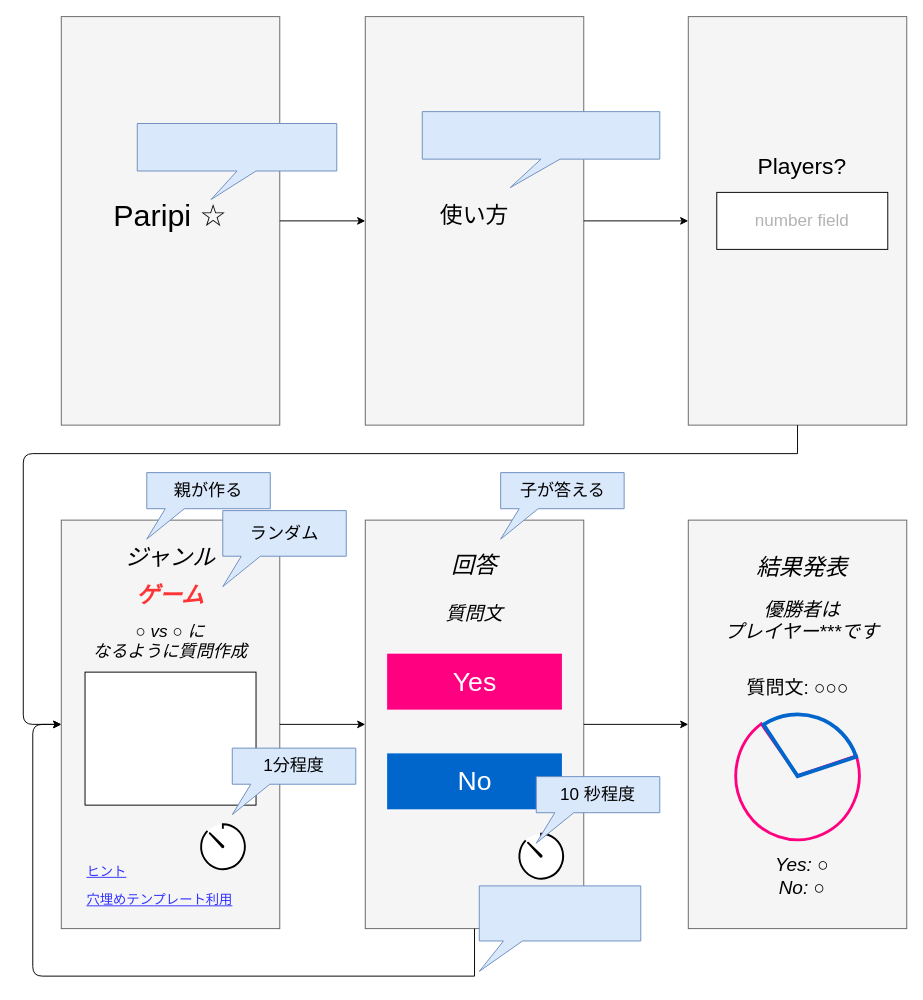
Image size: 923x1000. Some labels were removed from this diagram. The centre of each missing label's shape, as x and y in pixels:
"2 ~ 5ページ" goes at (540,149).
"text field" goes at (170,738).
"スプラッシュスクリーン" goes at (236,161).
"プレイヤーの数だけ繰り返す" goes at (559,928).
